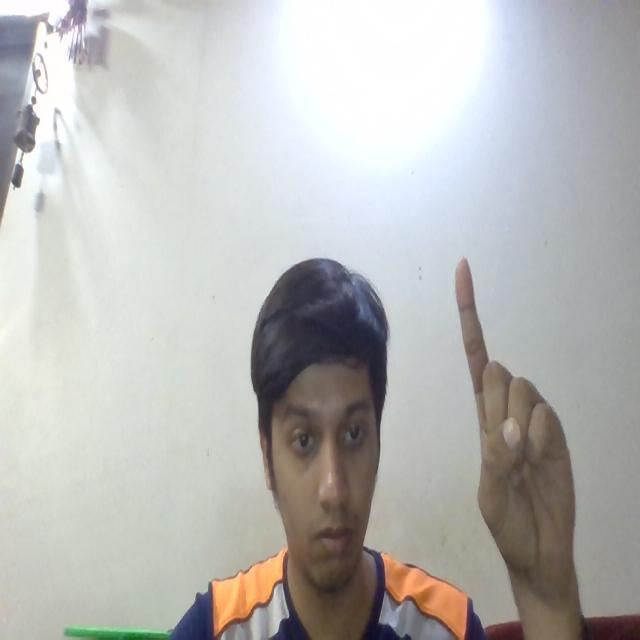Z: (434, 248, 612, 633)
